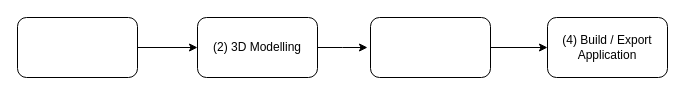
The diagram is 685 pixels wide and 95 high, and some of its shapes have lost their labels. The centre of each missing label's shape, as x and y in pixels:
(1) Input Data: (77,47)
(3) Making 3D Virtual World: (430,47)
